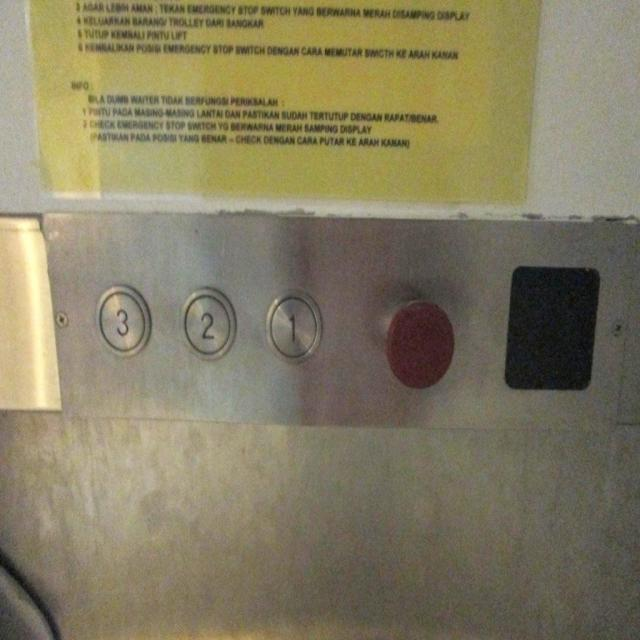1: (265, 289, 323, 364)
2: (178, 286, 236, 360)
3: (95, 282, 150, 356)
empty: (382, 294, 454, 392)
led: (504, 265, 600, 390)
